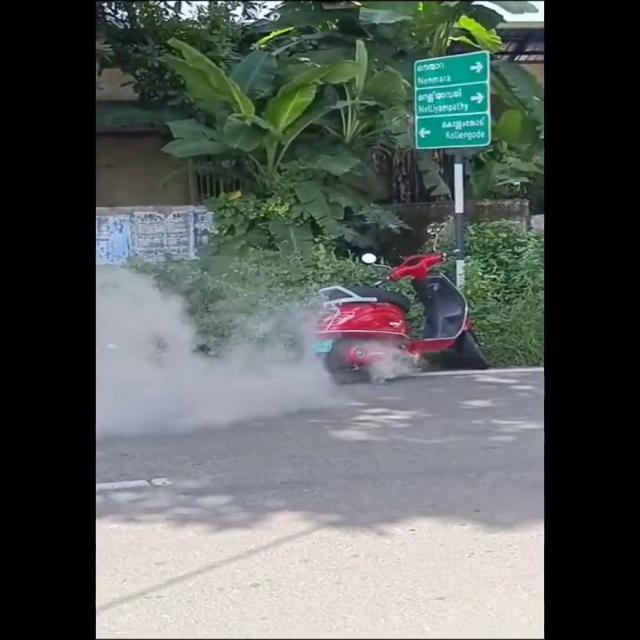Smoke: (96, 256, 340, 440)
